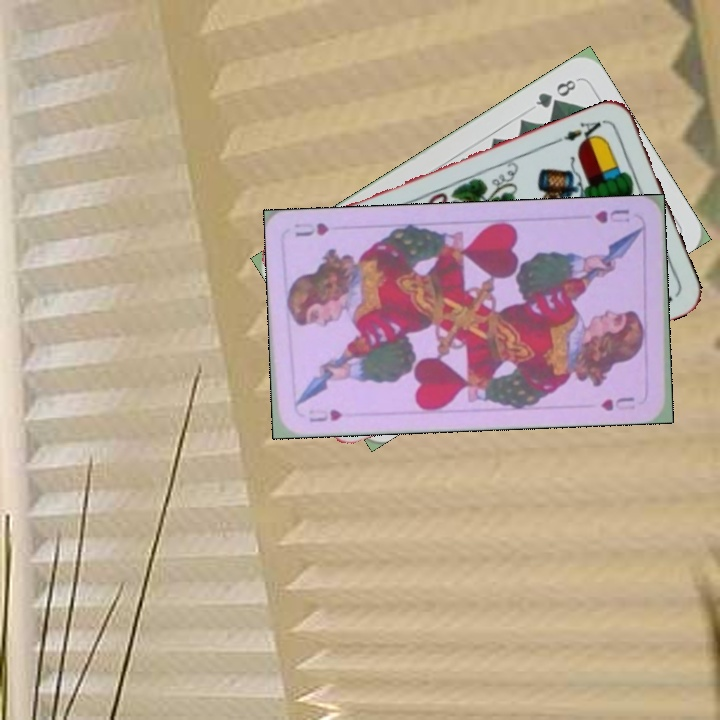EA: (552, 115, 609, 148)
G8: (531, 75, 579, 111)
HU: (590, 205, 632, 226), (305, 405, 345, 425)
